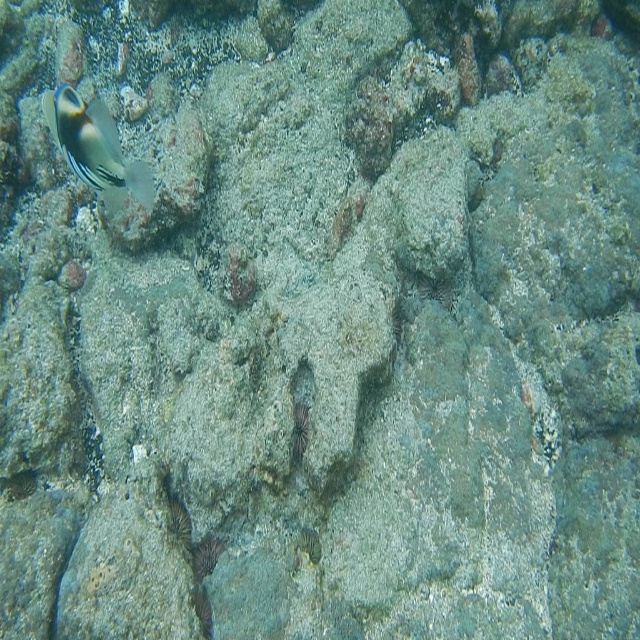Fish: (38, 63, 136, 219)
